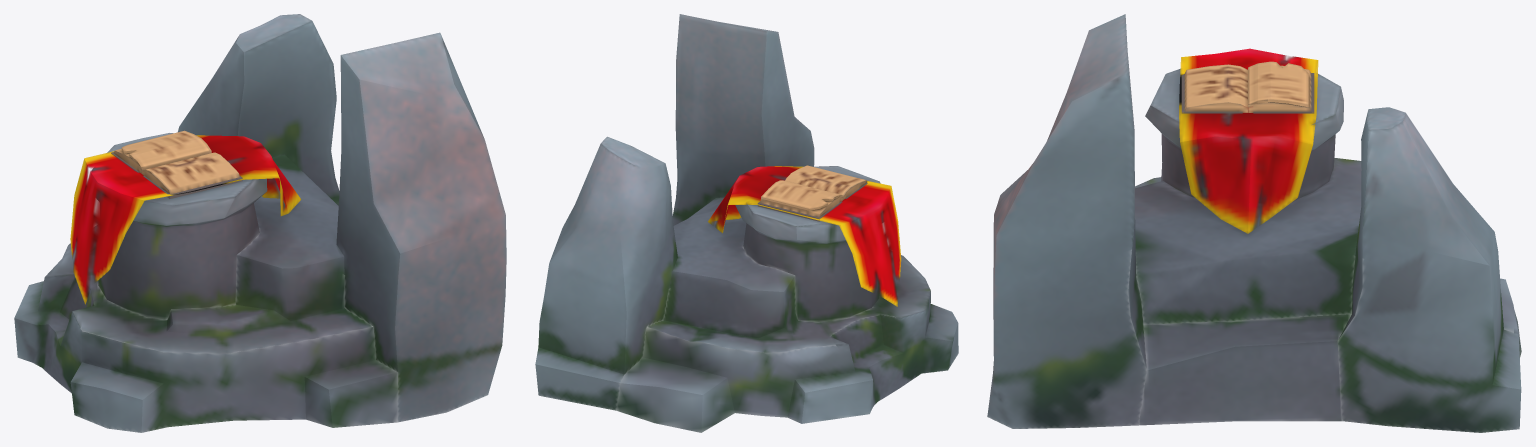
File: altar02.glb
3 views of the same model, side by side, from view 1: azimuth 30°, elevation 25°; view 2: azimuth 150°, elevation 25°; view 3: azimuth 270°, elevation 25° (orthographic). The views are drawn at different scales.
Visible parts, largest first — view 1: altar02_Altar_0; view 2: altar02_Altar_0; view 3: altar02_Altar_0.
Boxes of the visible parts, box(x1,y1,x2,y2) form: altar02_Altar_0: box(14, 14, 506, 432); altar02_Altar_0: box(535, 14, 958, 432); altar02_Altar_0: box(987, 14, 1521, 432).
Size of the model in its own units: 1.16 by 1.03 by 1.36.
Materials: 1 (1 with a texture image).
